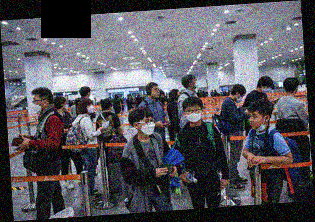mask_weared_incorrect: (249, 111, 265, 129)
with_mask: (140, 116, 156, 136), (186, 106, 203, 122), (32, 96, 43, 114), (235, 94, 247, 104), (87, 102, 96, 114), (193, 78, 200, 89), (262, 86, 272, 93), (63, 102, 70, 111)
without_mask: (151, 86, 161, 99)
